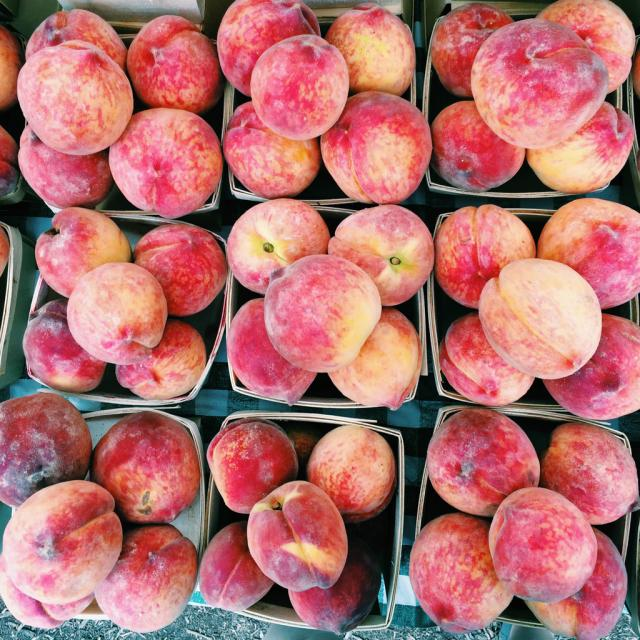Peach: (406, 404, 640, 640), (0, 394, 201, 634), (216, 0, 436, 206), (436, 199, 640, 420), (224, 196, 436, 408), (15, 8, 225, 219), (198, 418, 398, 634), (24, 207, 228, 400), (432, 0, 636, 193), (0, 24, 22, 108), (0, 127, 19, 195), (0, 229, 10, 276)
